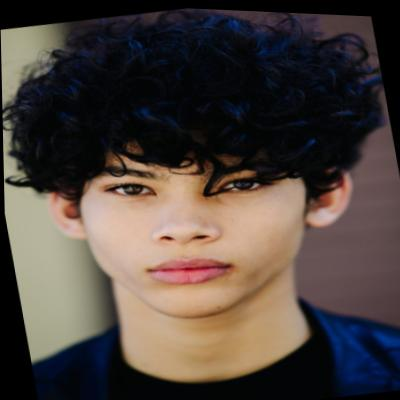netural: (76, 102, 317, 330)
